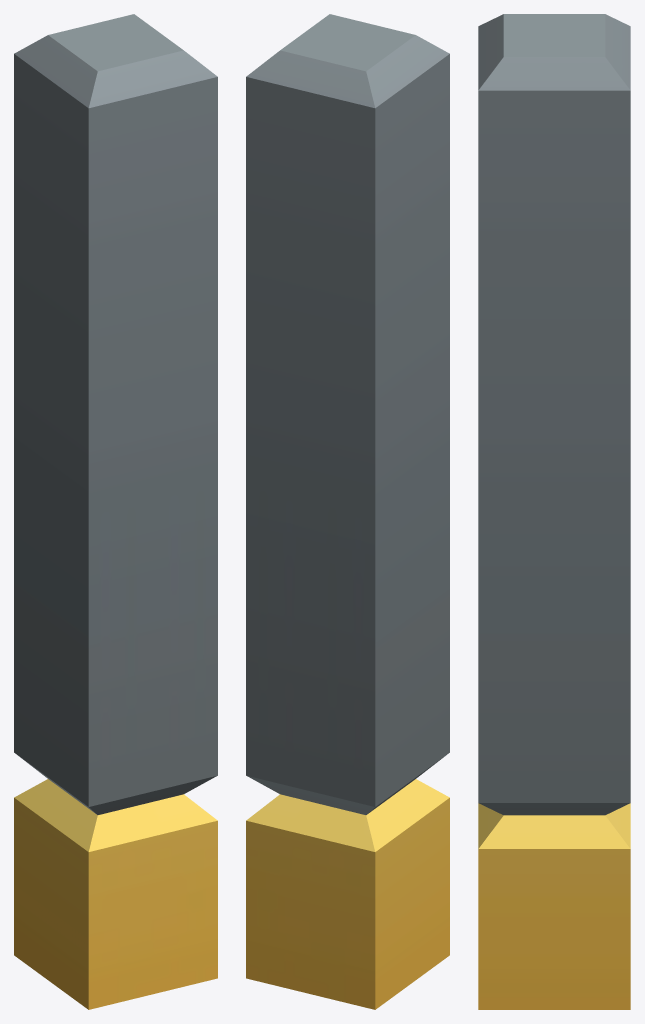
Rendered from pillar-a.glb.
3 views of the same model, side by side, from view 1: azimuth 30°, elevation 25°; view 2: azimuth 150°, elevation 25°; view 3: azimuth 270°, elevation 25° (orthographic).
Parts seen in each view (by area): view 1: Pillar_A; view 2: Pillar_A; view 3: Pillar_A.
Boxes of the visible parts, left/top/right/bottom form: Pillar_A: left=14, top=14, right=217, bottom=1009; Pillar_A: left=246, top=14, right=449, bottom=1009; Pillar_A: left=478, top=14, right=630, bottom=1009.
Size of the model in its own units: 0.6001 by 4.1 by 0.6001.
Materials: 1 (1 with a texture image).
